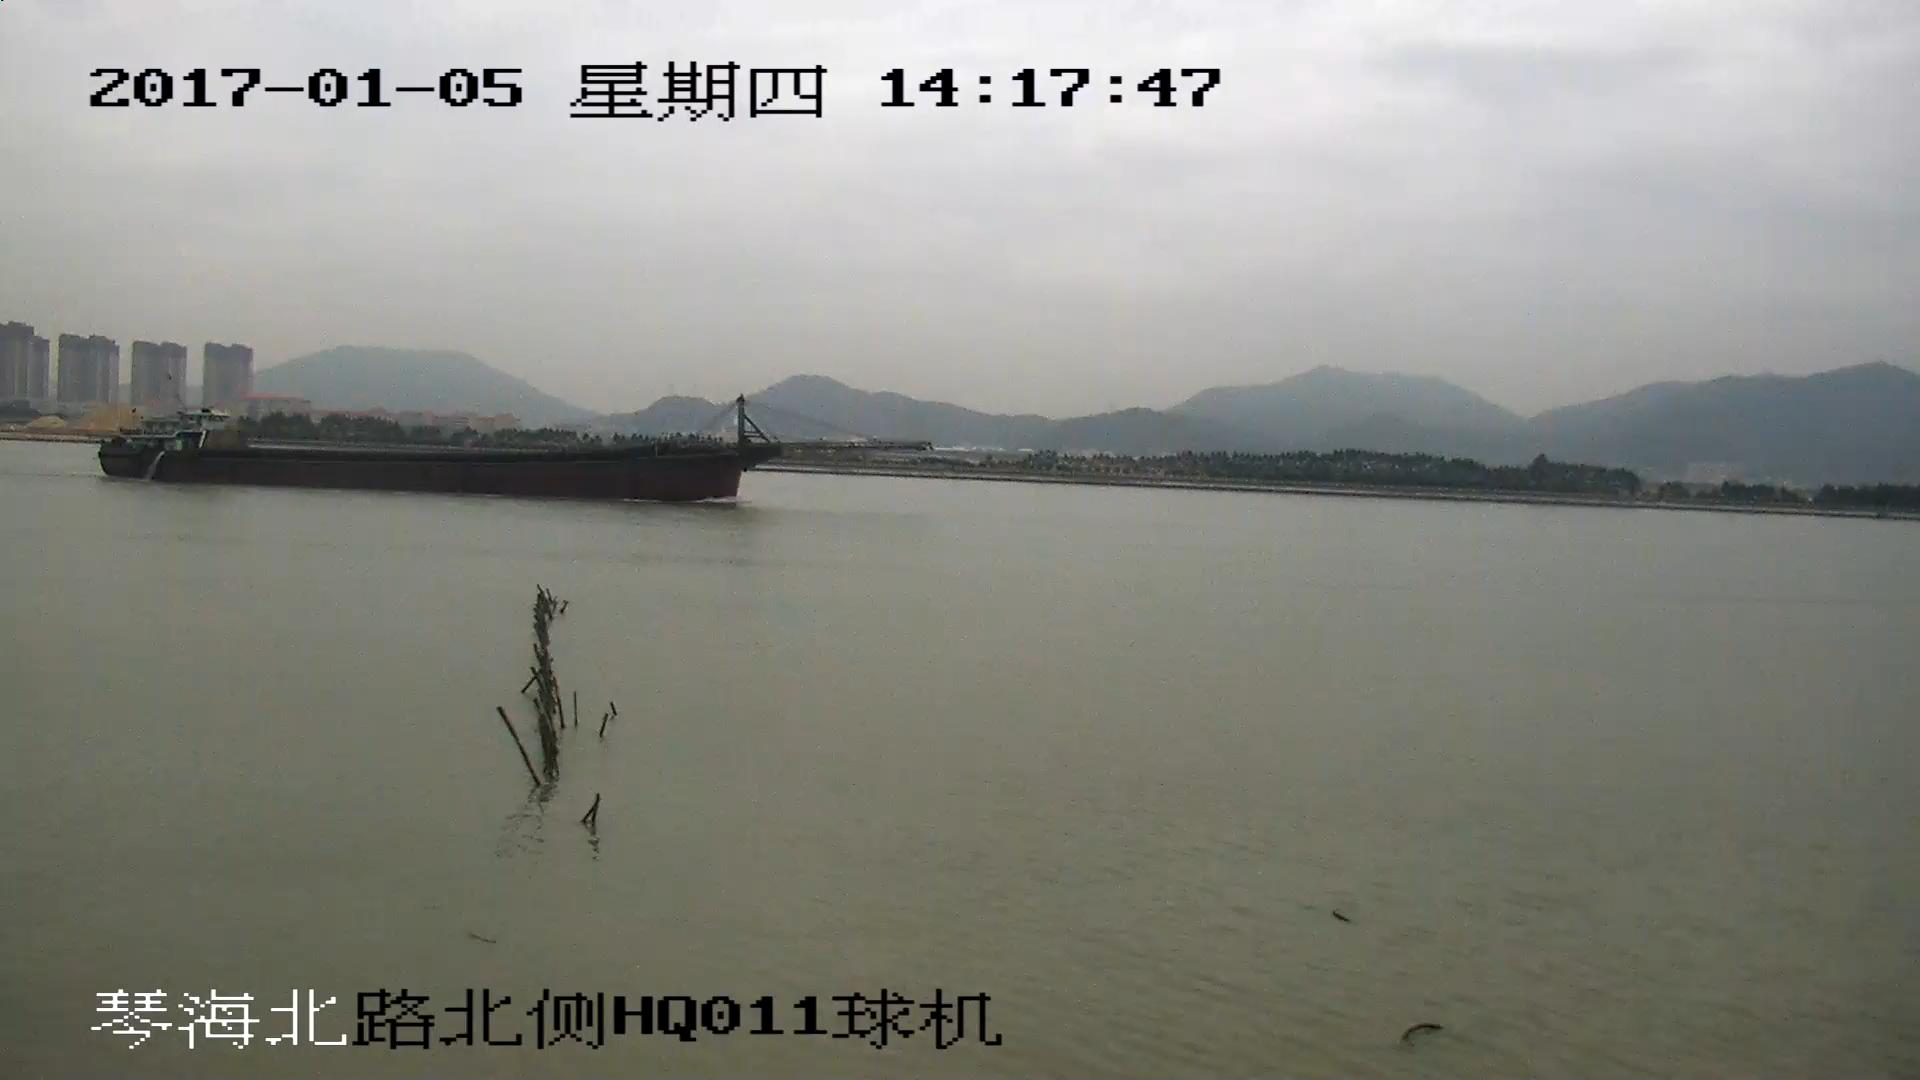bulk cargo carrier: (101, 394, 922, 501)
